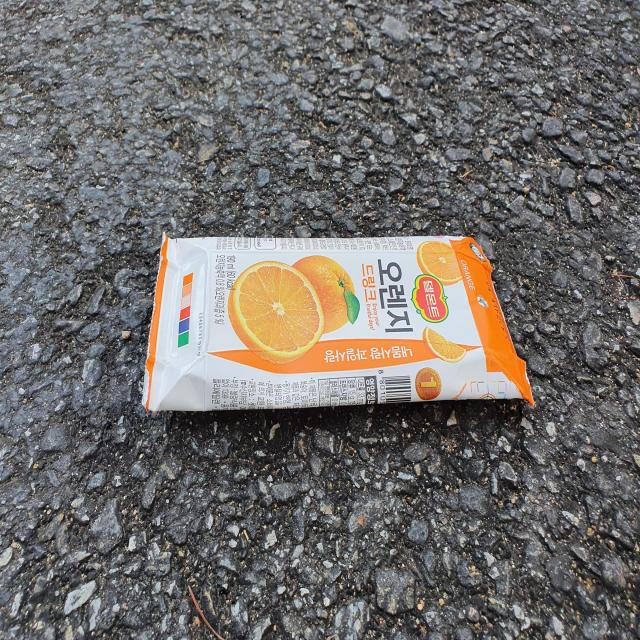paperpack: (142, 234, 535, 411)
